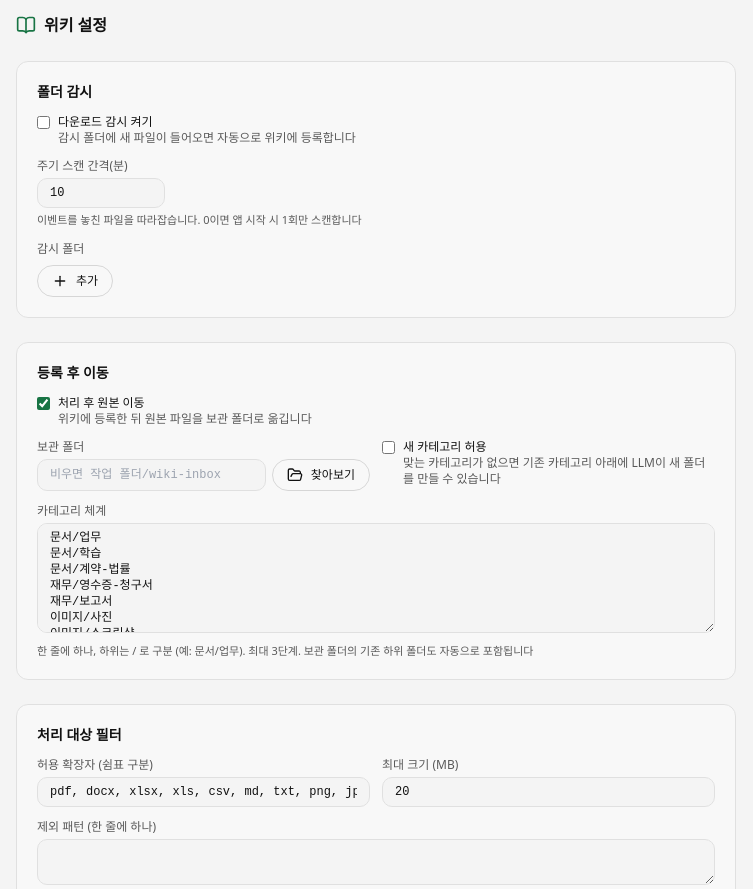
WikiTab inbox folder browse › 폴더를 고르면 보관 폴더 입력에 반영된다
The image size is (753, 889).
Click the button "찾아보기". click: (321, 474)
box: [272, 458, 370, 490]
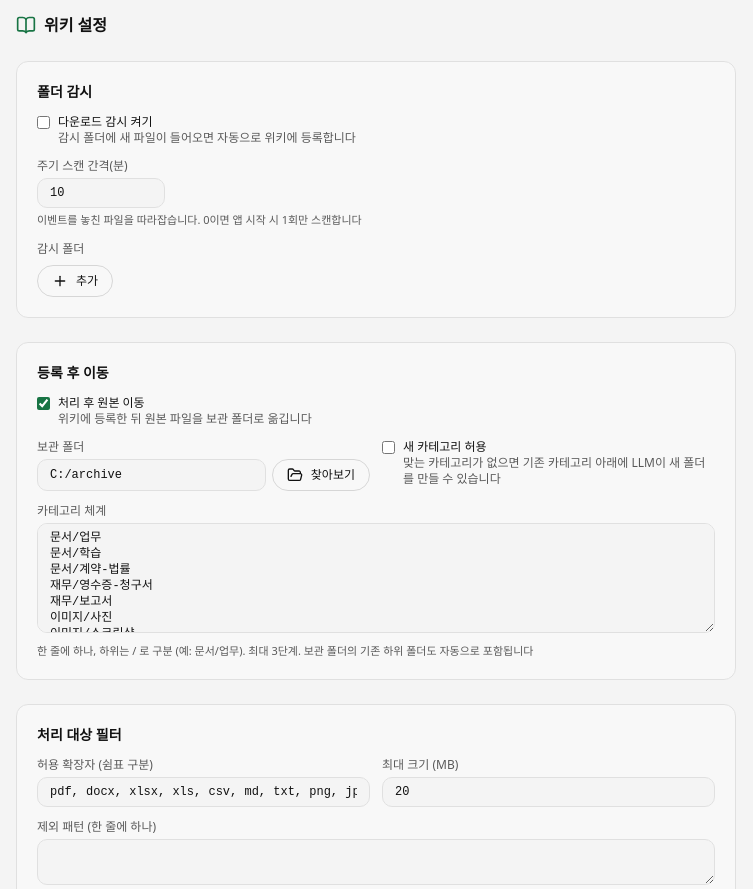
Now the field with placeholder "비우면 작업 폴더/wiki-inbox" below "새 카테고리 허용" holds "C:/archive", box [37, 458, 266, 490]
